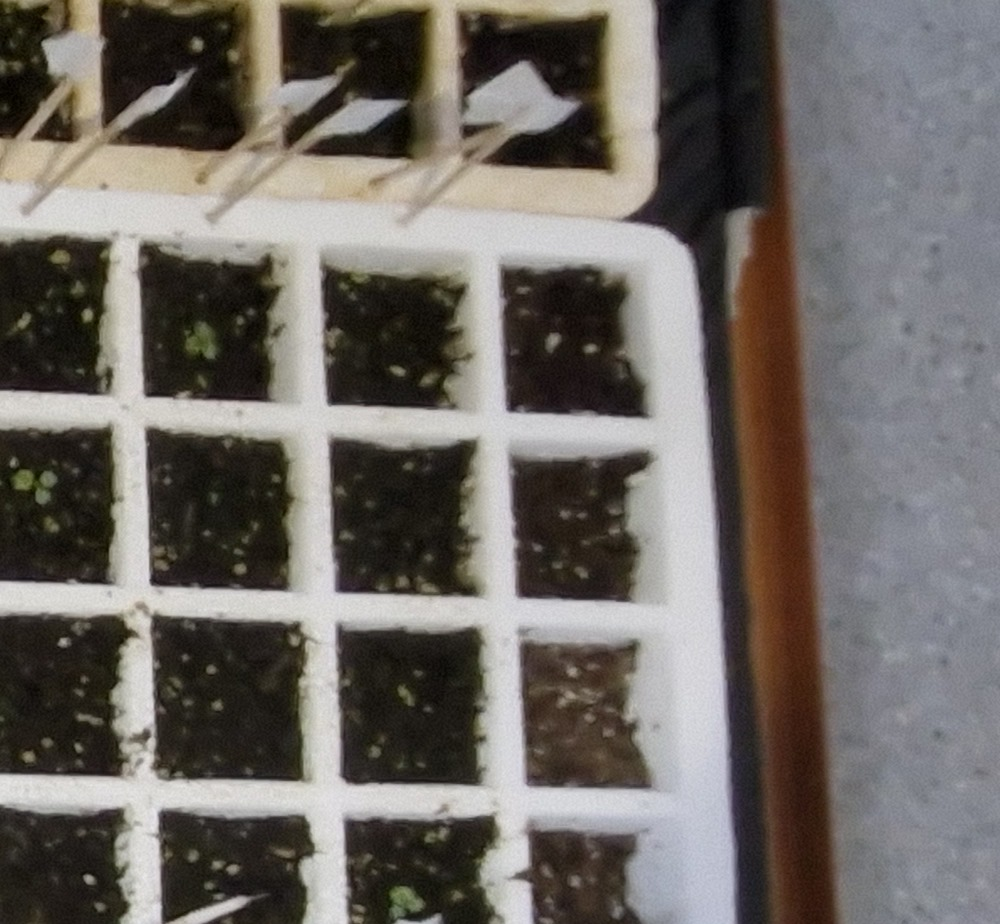Folha: (388, 885, 413, 904), (14, 469, 34, 489), (196, 323, 216, 341), (403, 895, 425, 911), (187, 335, 204, 353), (40, 471, 59, 487), (202, 342, 218, 359), (35, 488, 51, 504), (390, 906, 406, 920)
Germinacao: (11, 467, 58, 503), (388, 886, 425, 920), (186, 322, 216, 357)
